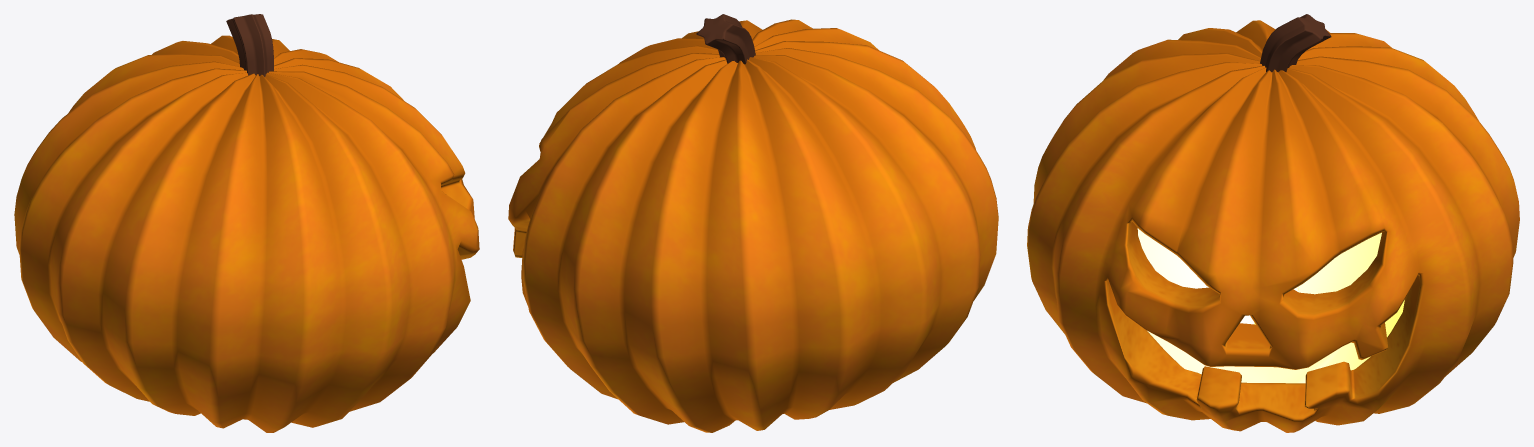
File: Pumpkin.glb
3 views of the same model, side by side, from view 1: azimuth 30°, elevation 25°; view 2: azimuth 150°, elevation 25°; view 3: azimuth 270°, elevation 25° (orthographic). The views are drawn at different scales.
Parts seen in each view (by area): view 1: Object_2; view 2: Object_2; view 3: Object_2.
Part boxes in pixels (x1=…): Object_2: x1=14, y1=14, x2=479, y2=432; Object_2: x1=508, y1=14, x2=998, y2=432; Object_2: x1=1027, y1=14, x2=1519, y2=432.
Bounding box in the file's own units: 3.59 × 3.11 × 3.6.
2 materials, 1 textured.
